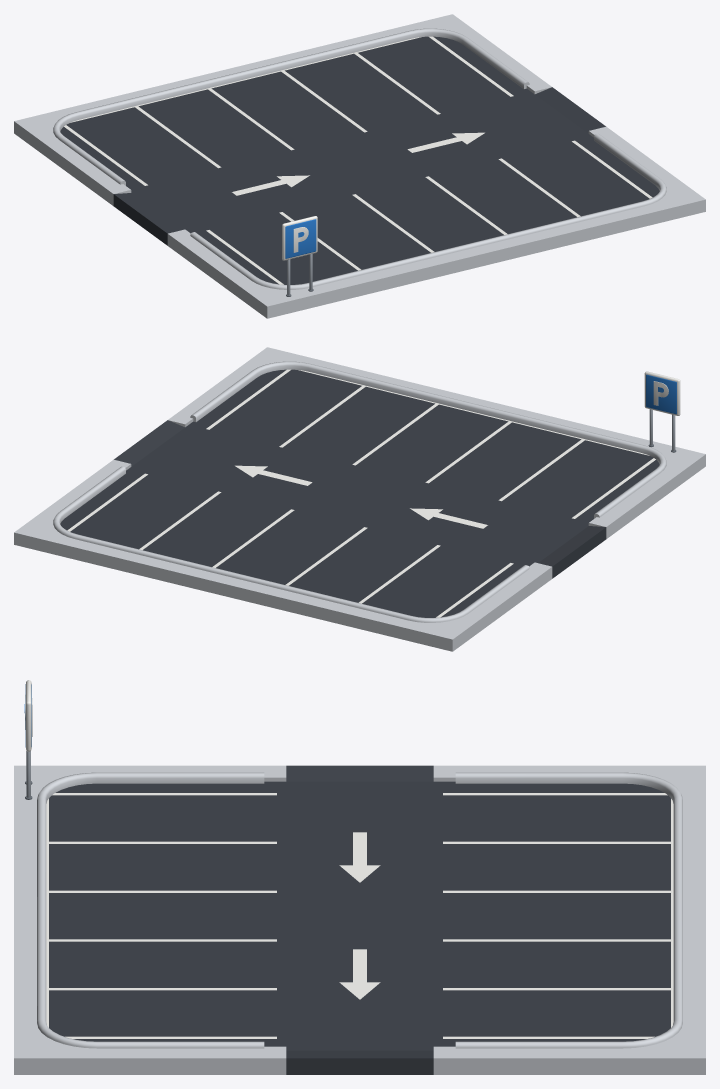
Rendered from estacionamento_quadra.glb.
3 views of the same model, one above another, from view 1: azimuth 30°, elevation 25°; view 2: azimuth 150°, elevation 25°; view 3: azimuth 270°, elevation 25° (orthographic). The views are drawn at different scales.
Parts seen in each view (by area): view 1: estacionamento_quadra; view 2: estacionamento_quadra; view 3: estacionamento_quadra.
Boxes of the visible parts, x1,y1,x2,y2 form: estacionamento_quadra: (14,14,705,318); estacionamento_quadra: (14,347,705,651); estacionamento_quadra: (14,680,705,1074).
Bounding box in the file's own units: 15 × 2.8 × 15.
1 material, 1 textured.
